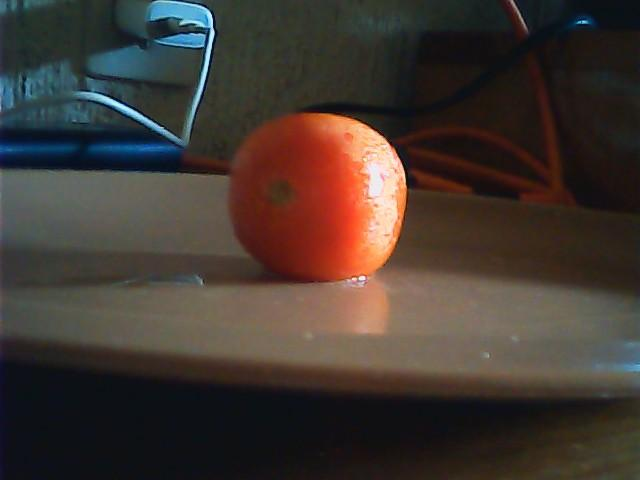maduro: (222, 112, 408, 286)
